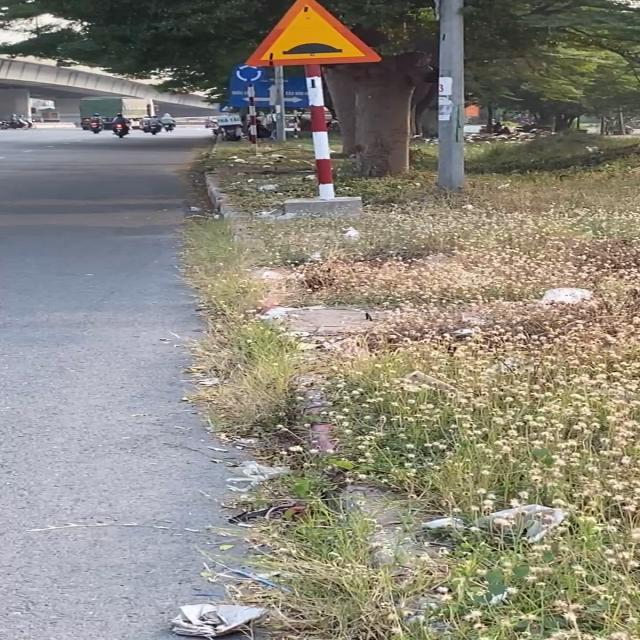221-duong-go-ghe: (241, 0, 382, 66)
303-noi-giao-nhau-chay-theo-vong-xuyen: (233, 62, 266, 84)
